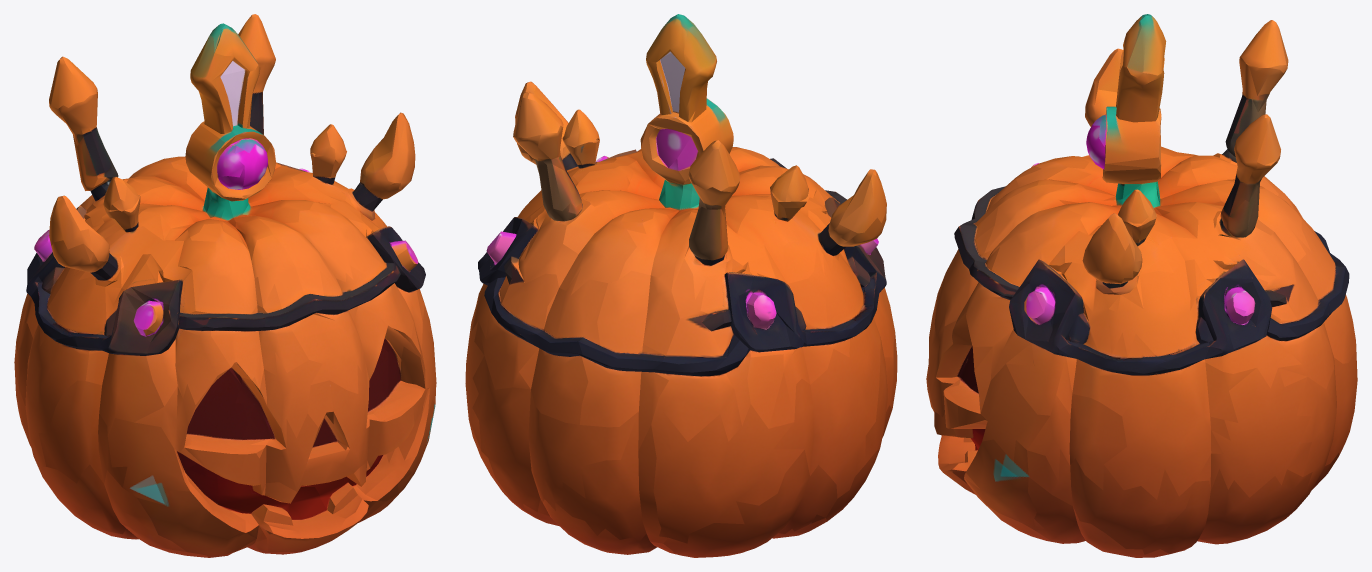
Rendered from hw-crown.glb.
The picture shows the model from 3 angles, left to right: view 1: azimuth 30°, elevation 25°; view 2: azimuth 150°, elevation 25°; view 3: azimuth 270°, elevation 25°; orthographic projection. The views are drawn at different scales.
Size of the model in its own units: 1.54 by 1.9 by 1.53.
Materials: 1 (1 with a texture image).
